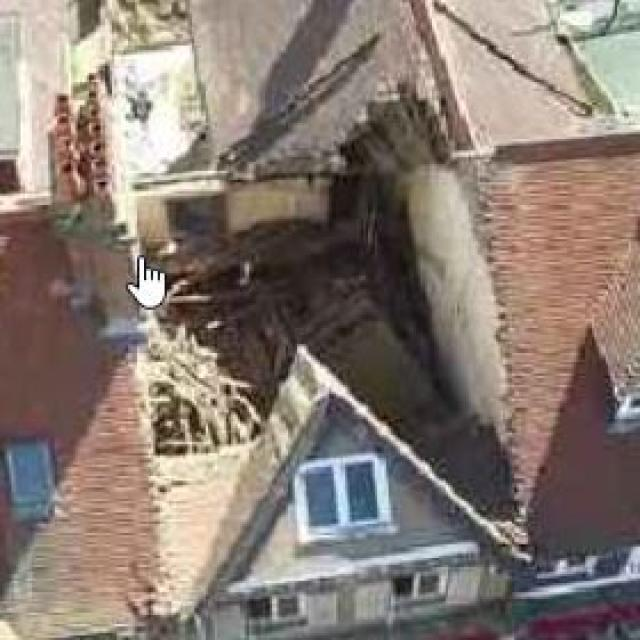collapsed_building: (135, 214, 496, 615)
